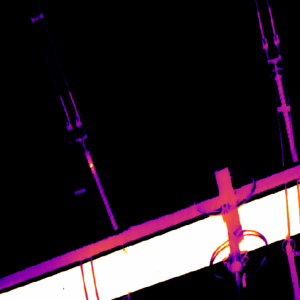insulator: (82, 149, 119, 231), (272, 73, 298, 162), (283, 243, 300, 300)
